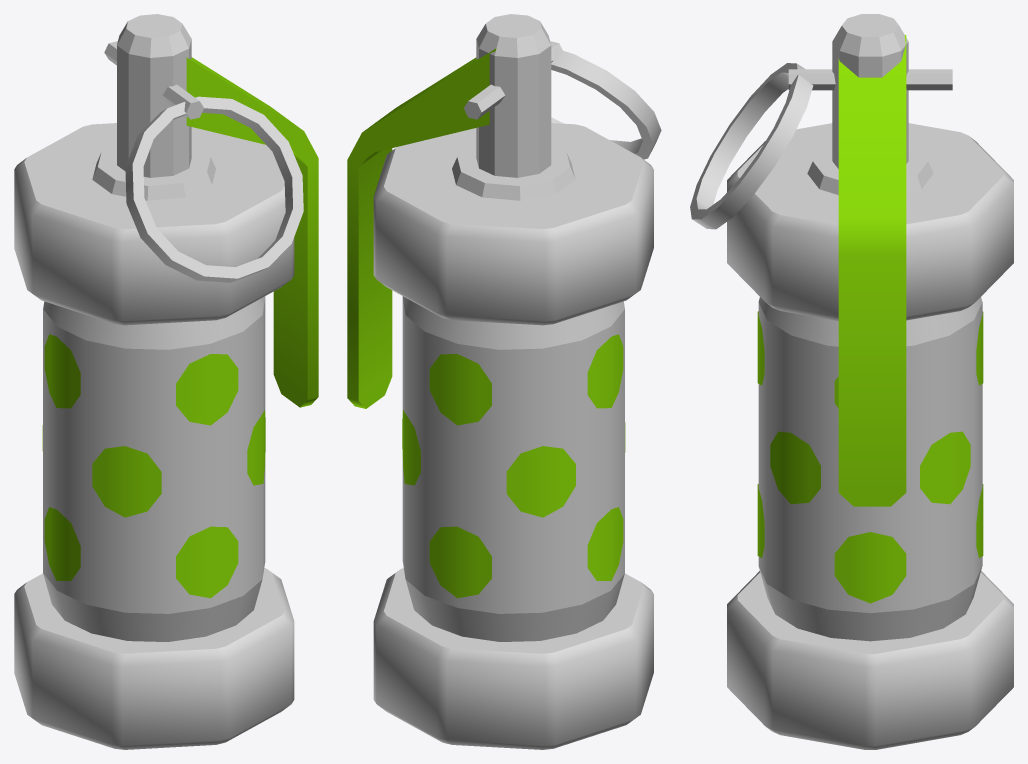
Rendered from Grenade B Mat.fbx.
3 renders of one model, left to right at view 1: azimuth 30°, elevation 25°; view 2: azimuth 150°, elevation 25°; view 3: azimuth 270°, elevation 25°, orthographic.
Visible parts, largest first — view 1: Grenade B Mat; view 2: Grenade B Mat; view 3: Grenade B Mat.
Part boxes in pixels (box(x1,y1,x2,y2)): Grenade B Mat: box(14, 14, 318, 749); Grenade B Mat: box(347, 14, 661, 749); Grenade B Mat: box(690, 14, 1013, 749).
Bounding box in the file's own units: 0.1314 × 0.3078 × 0.1352.
